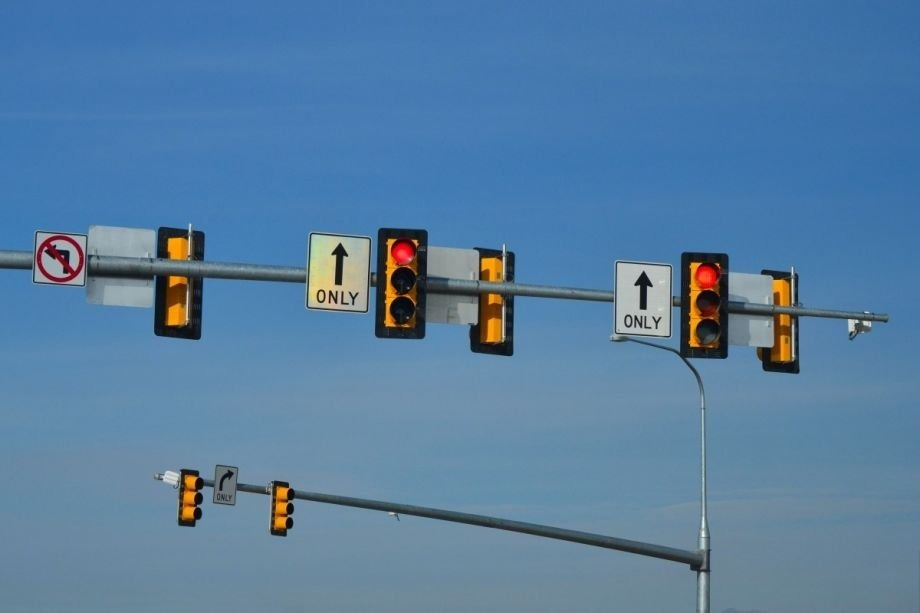pole: (680, 357, 709, 612), (631, 340, 677, 354)
